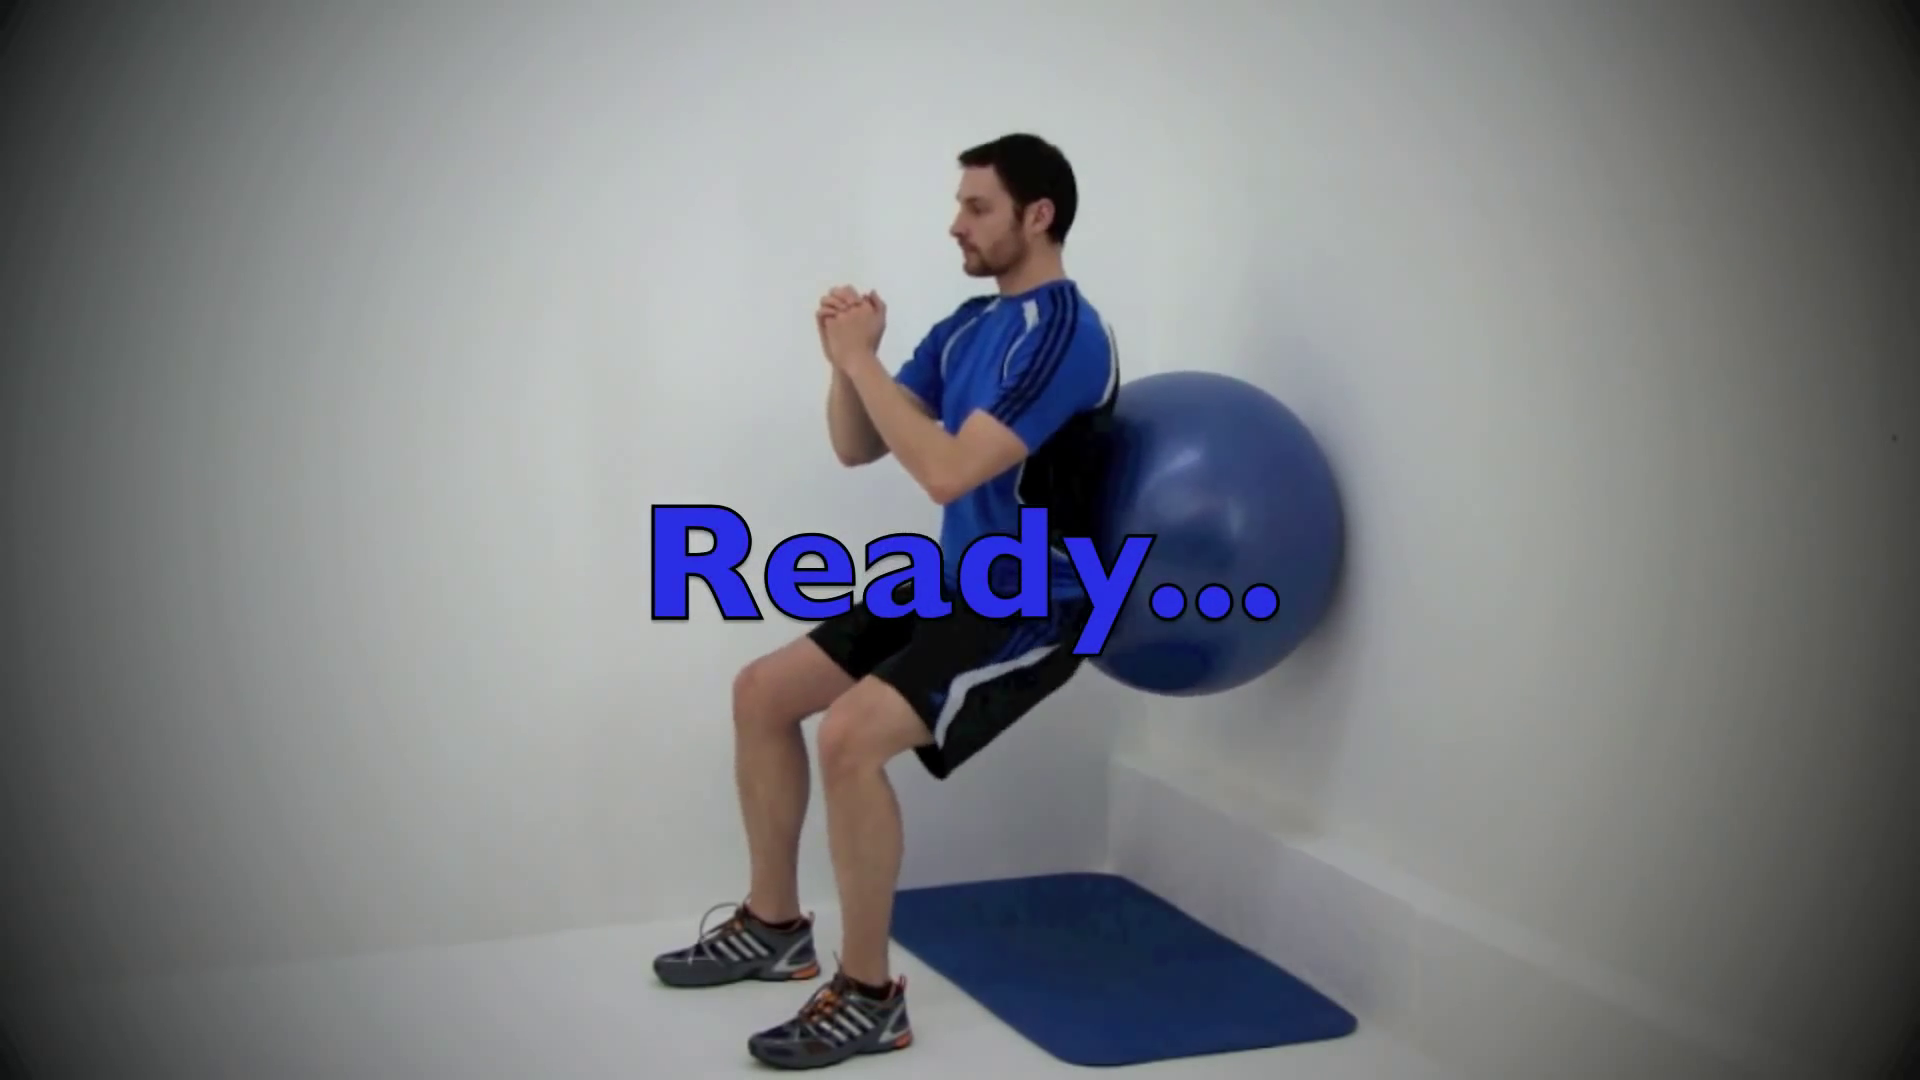yogaball: (1040, 365, 1360, 711)
